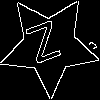Z: (24, 20, 67, 73)
